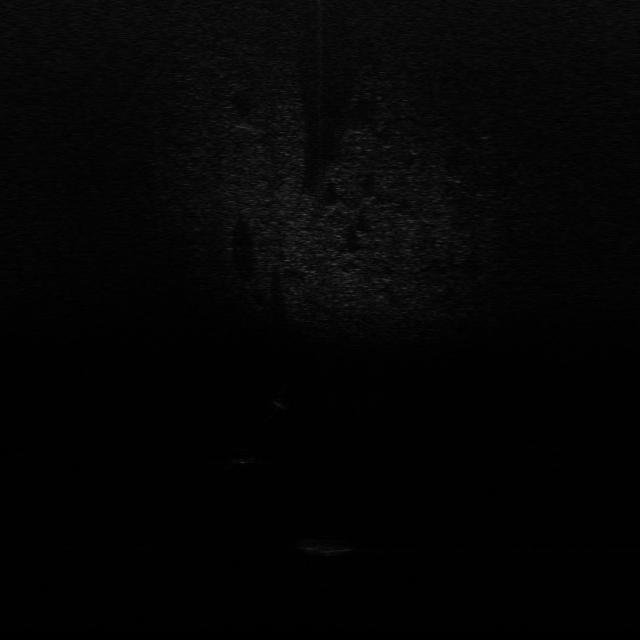ball: (230, 447, 256, 465)
circle cage: (297, 534, 354, 556)
human body: (268, 384, 291, 424)
